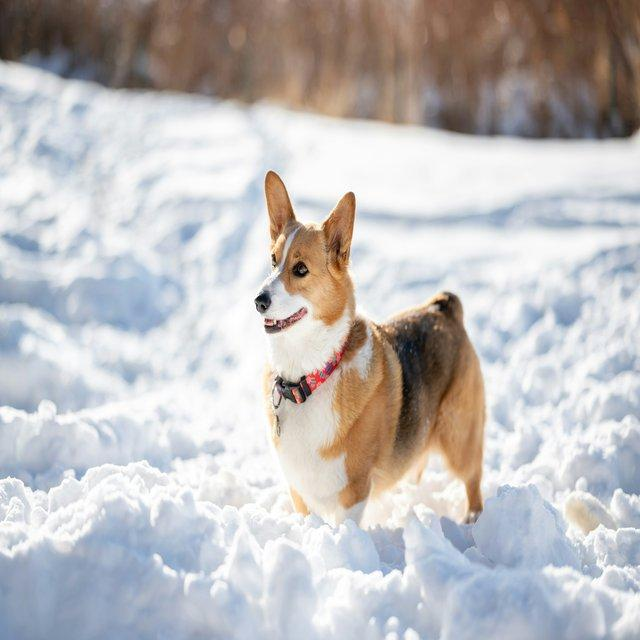corgi: (252, 169, 486, 530)
